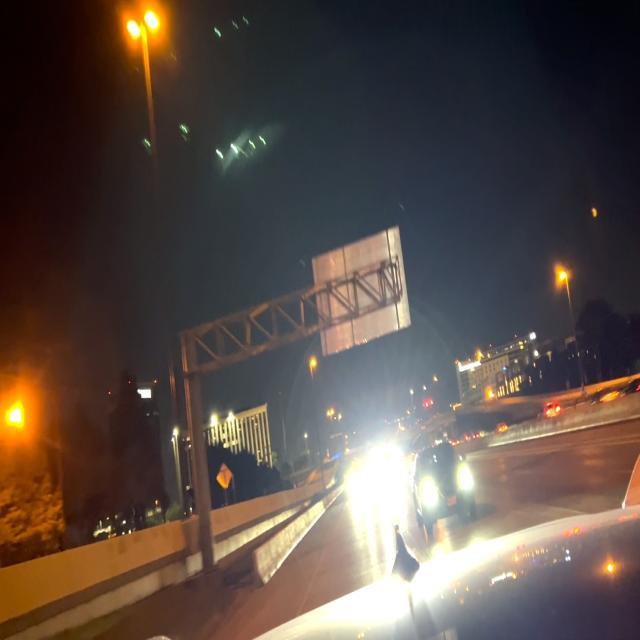back-of-sign: (312, 229, 412, 351)
